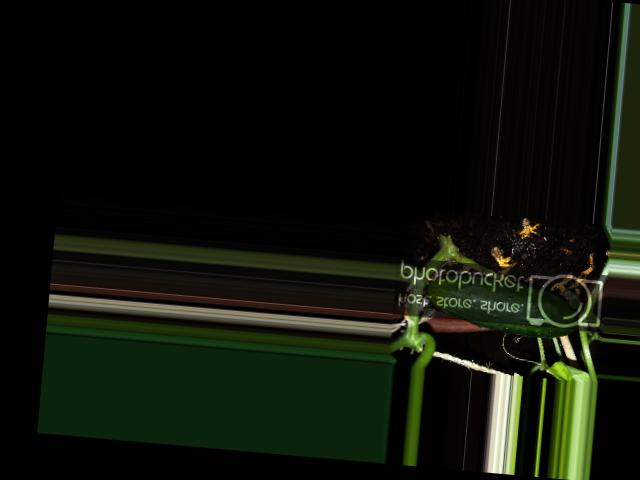cucumber: (424, 270, 580, 340)
